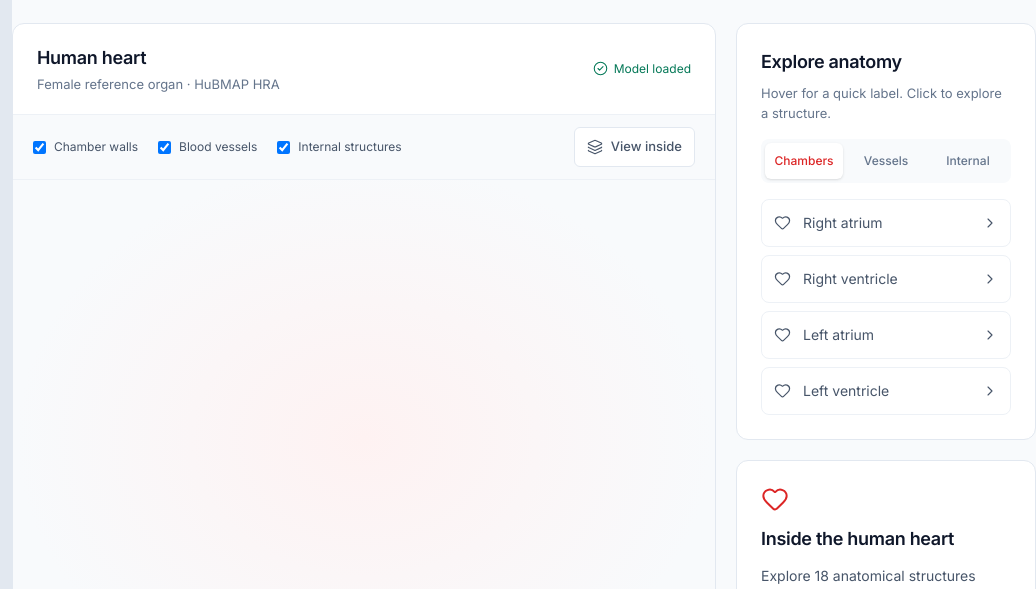
Test: vessels and internal structures share selection and layers can reveal the valves
This screenshot has width=1036, height=589.
Click the button "Vessels".
click(886, 160)  # box [847,142,925,178]
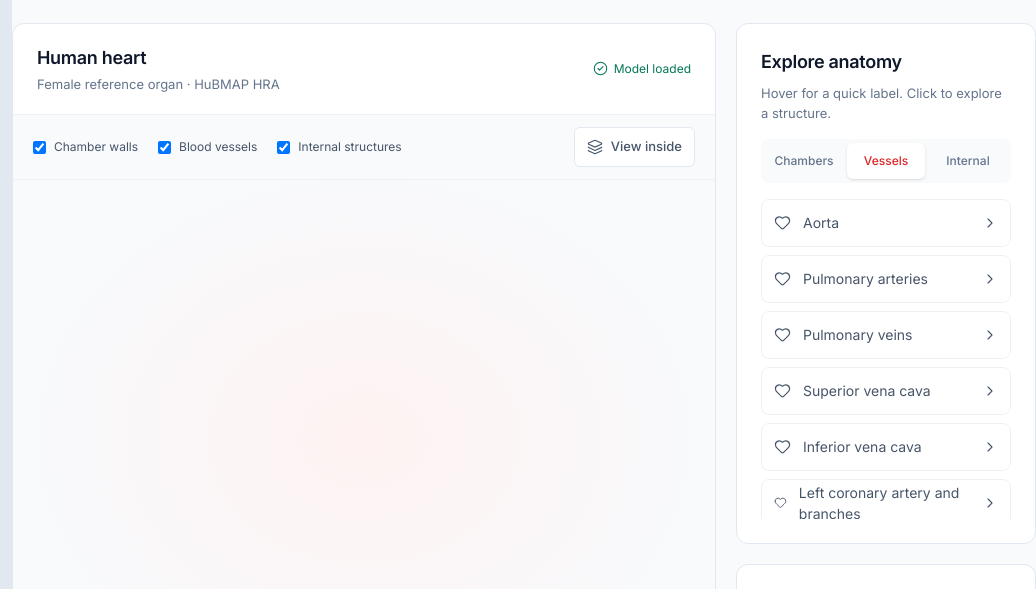
Click the button "Aorta".
click(886, 222)  # box [761,198,1011,246]
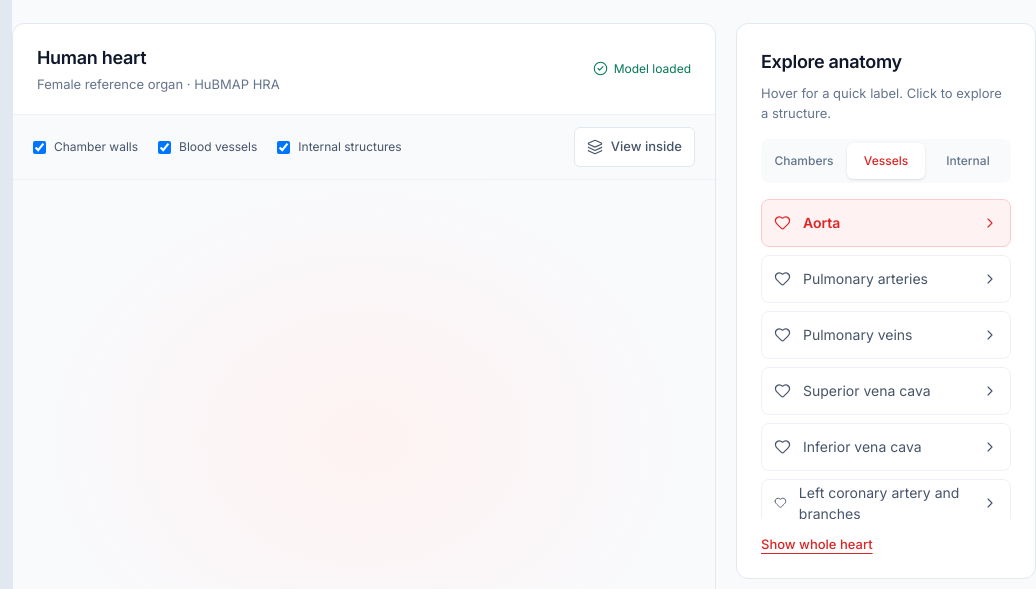
Click the checkbox labelled "Blood vessels".
click(165, 147)  # box [158,140,171,154]
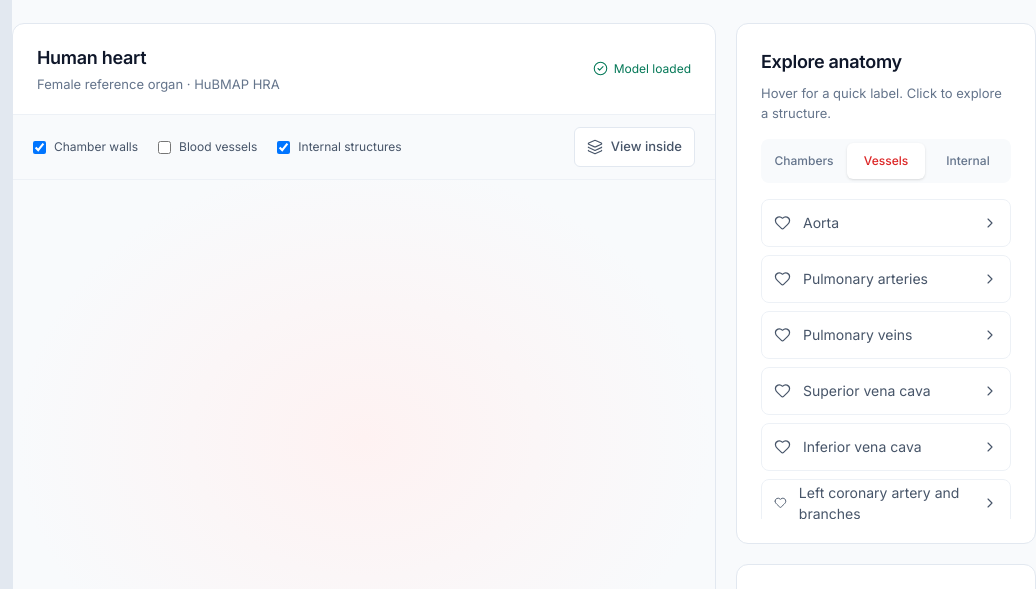
Click the button "View inside".
click(634, 147)  # box [574,127,695,167]
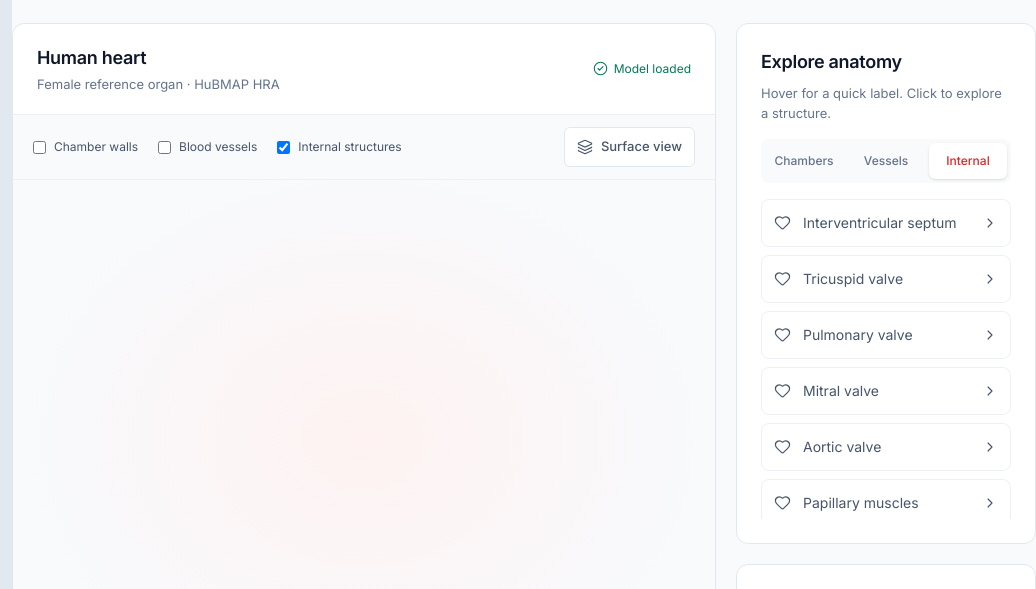
Click the button "Mitral valve".
click(886, 390)  # box [761,366,1011,414]
(page scrolled)
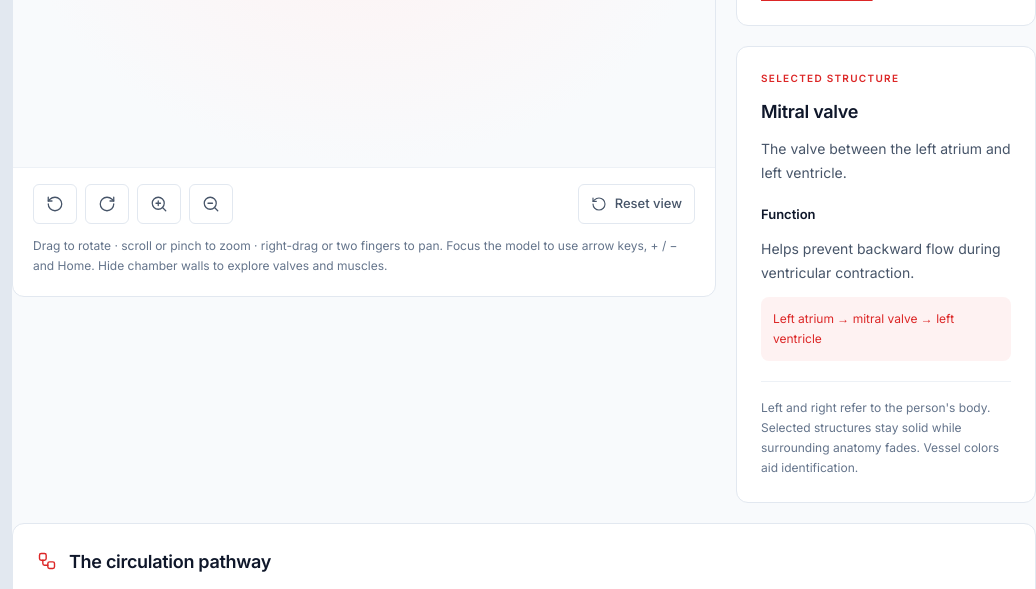
expect the element "SELECTED STRUCTURE" shows "left atrium and left ventricle": met, box [761,140,1011,181]
